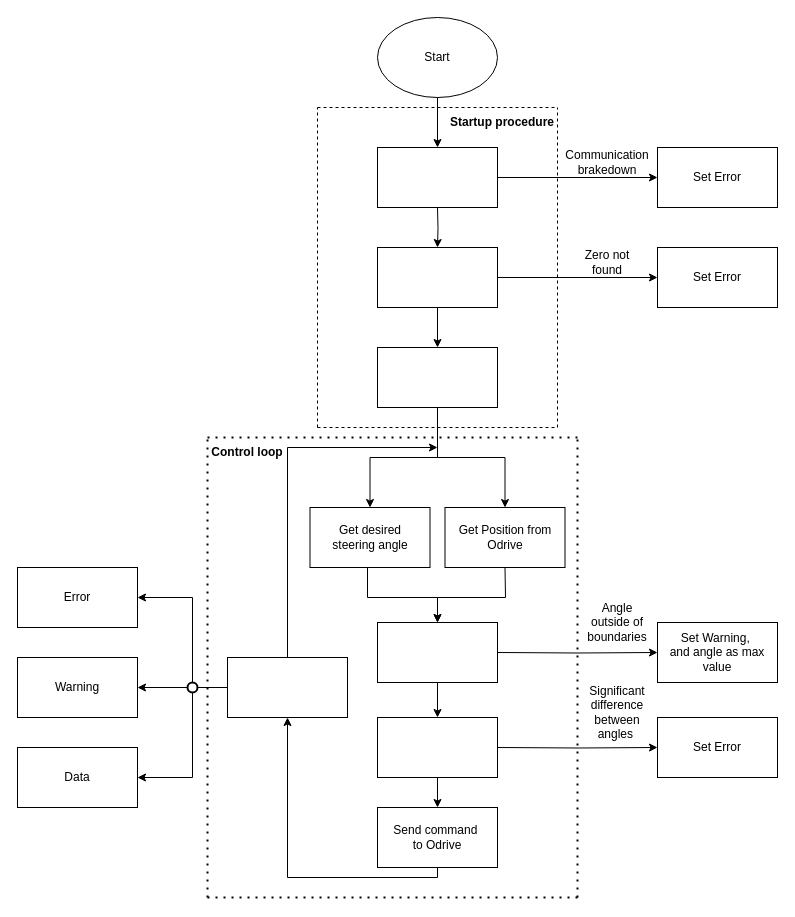
The diagram is 795 pixels wide and 917 high, and some of its shapes have lost their labels. Here are the shapes that lost their labels. From the top down, the box of each, then its label:
(376, 146, 498, 208): Establish communication with Odrive
(376, 246, 498, 308): Calibration
(376, 346, 498, 408): Wait for Ready-to-drive
(376, 622, 498, 682): Calculate displacement
(226, 656, 348, 718): Check Odrive condition
(376, 716, 498, 778): Sanity check with Steering angle sensor
